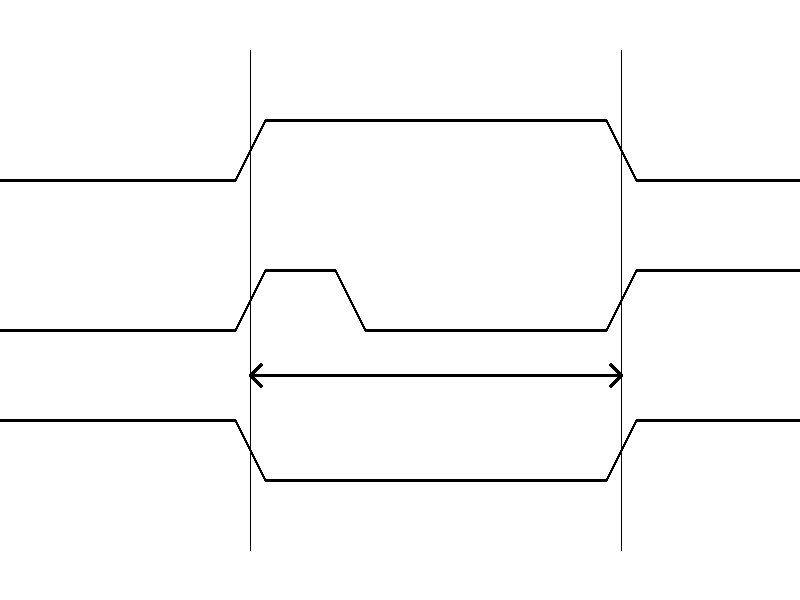double_arrow: (250, 360, 621, 390)
